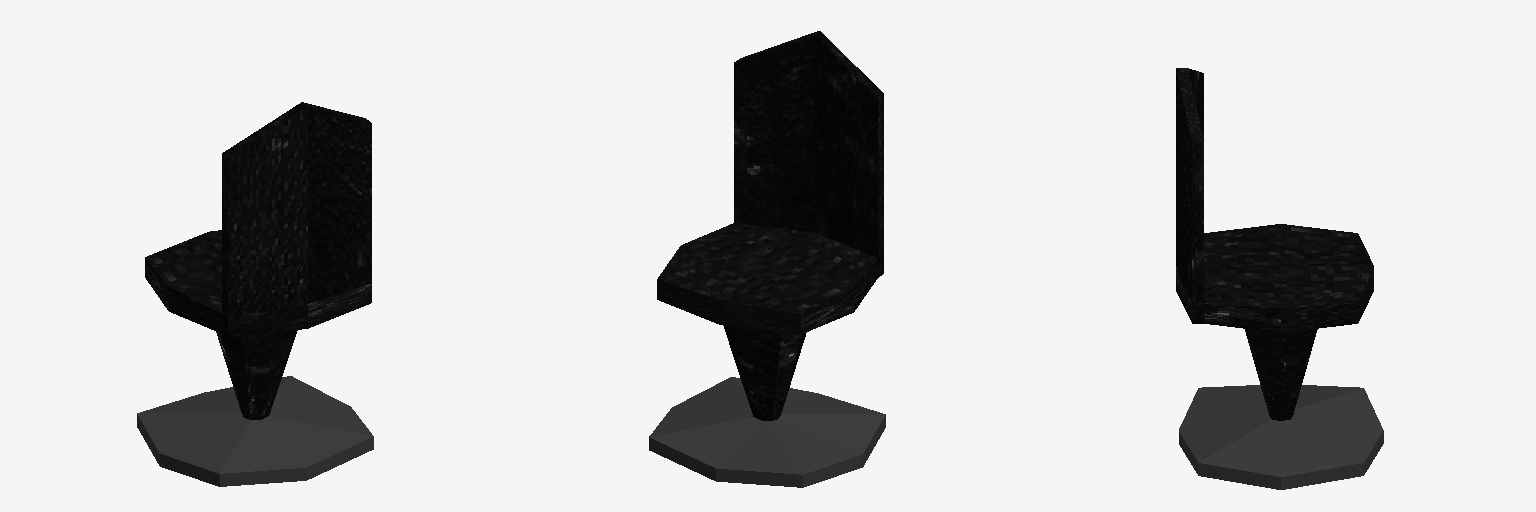
3 renders of one model, left to right at view 1: azimuth 30°, elevation 25°; view 2: azimuth 150°, elevation 25°; view 3: azimuth 270°, elevation 25°, orthographic.
Visible parts, largest first — view 1: chair; view 2: chair; view 3: chair.
Boxes of the visible parts, x1=… form: chair: x1=137, y1=102, x2=373, y2=486; chair: x1=649, y1=31, x2=885, y2=487; chair: x1=1176, y1=68, x2=1383, y2=489.
Bounding box in the file's own units: 0.7626 × 1.43 × 0.7166.
Materials: 1 (1 with a texture image).